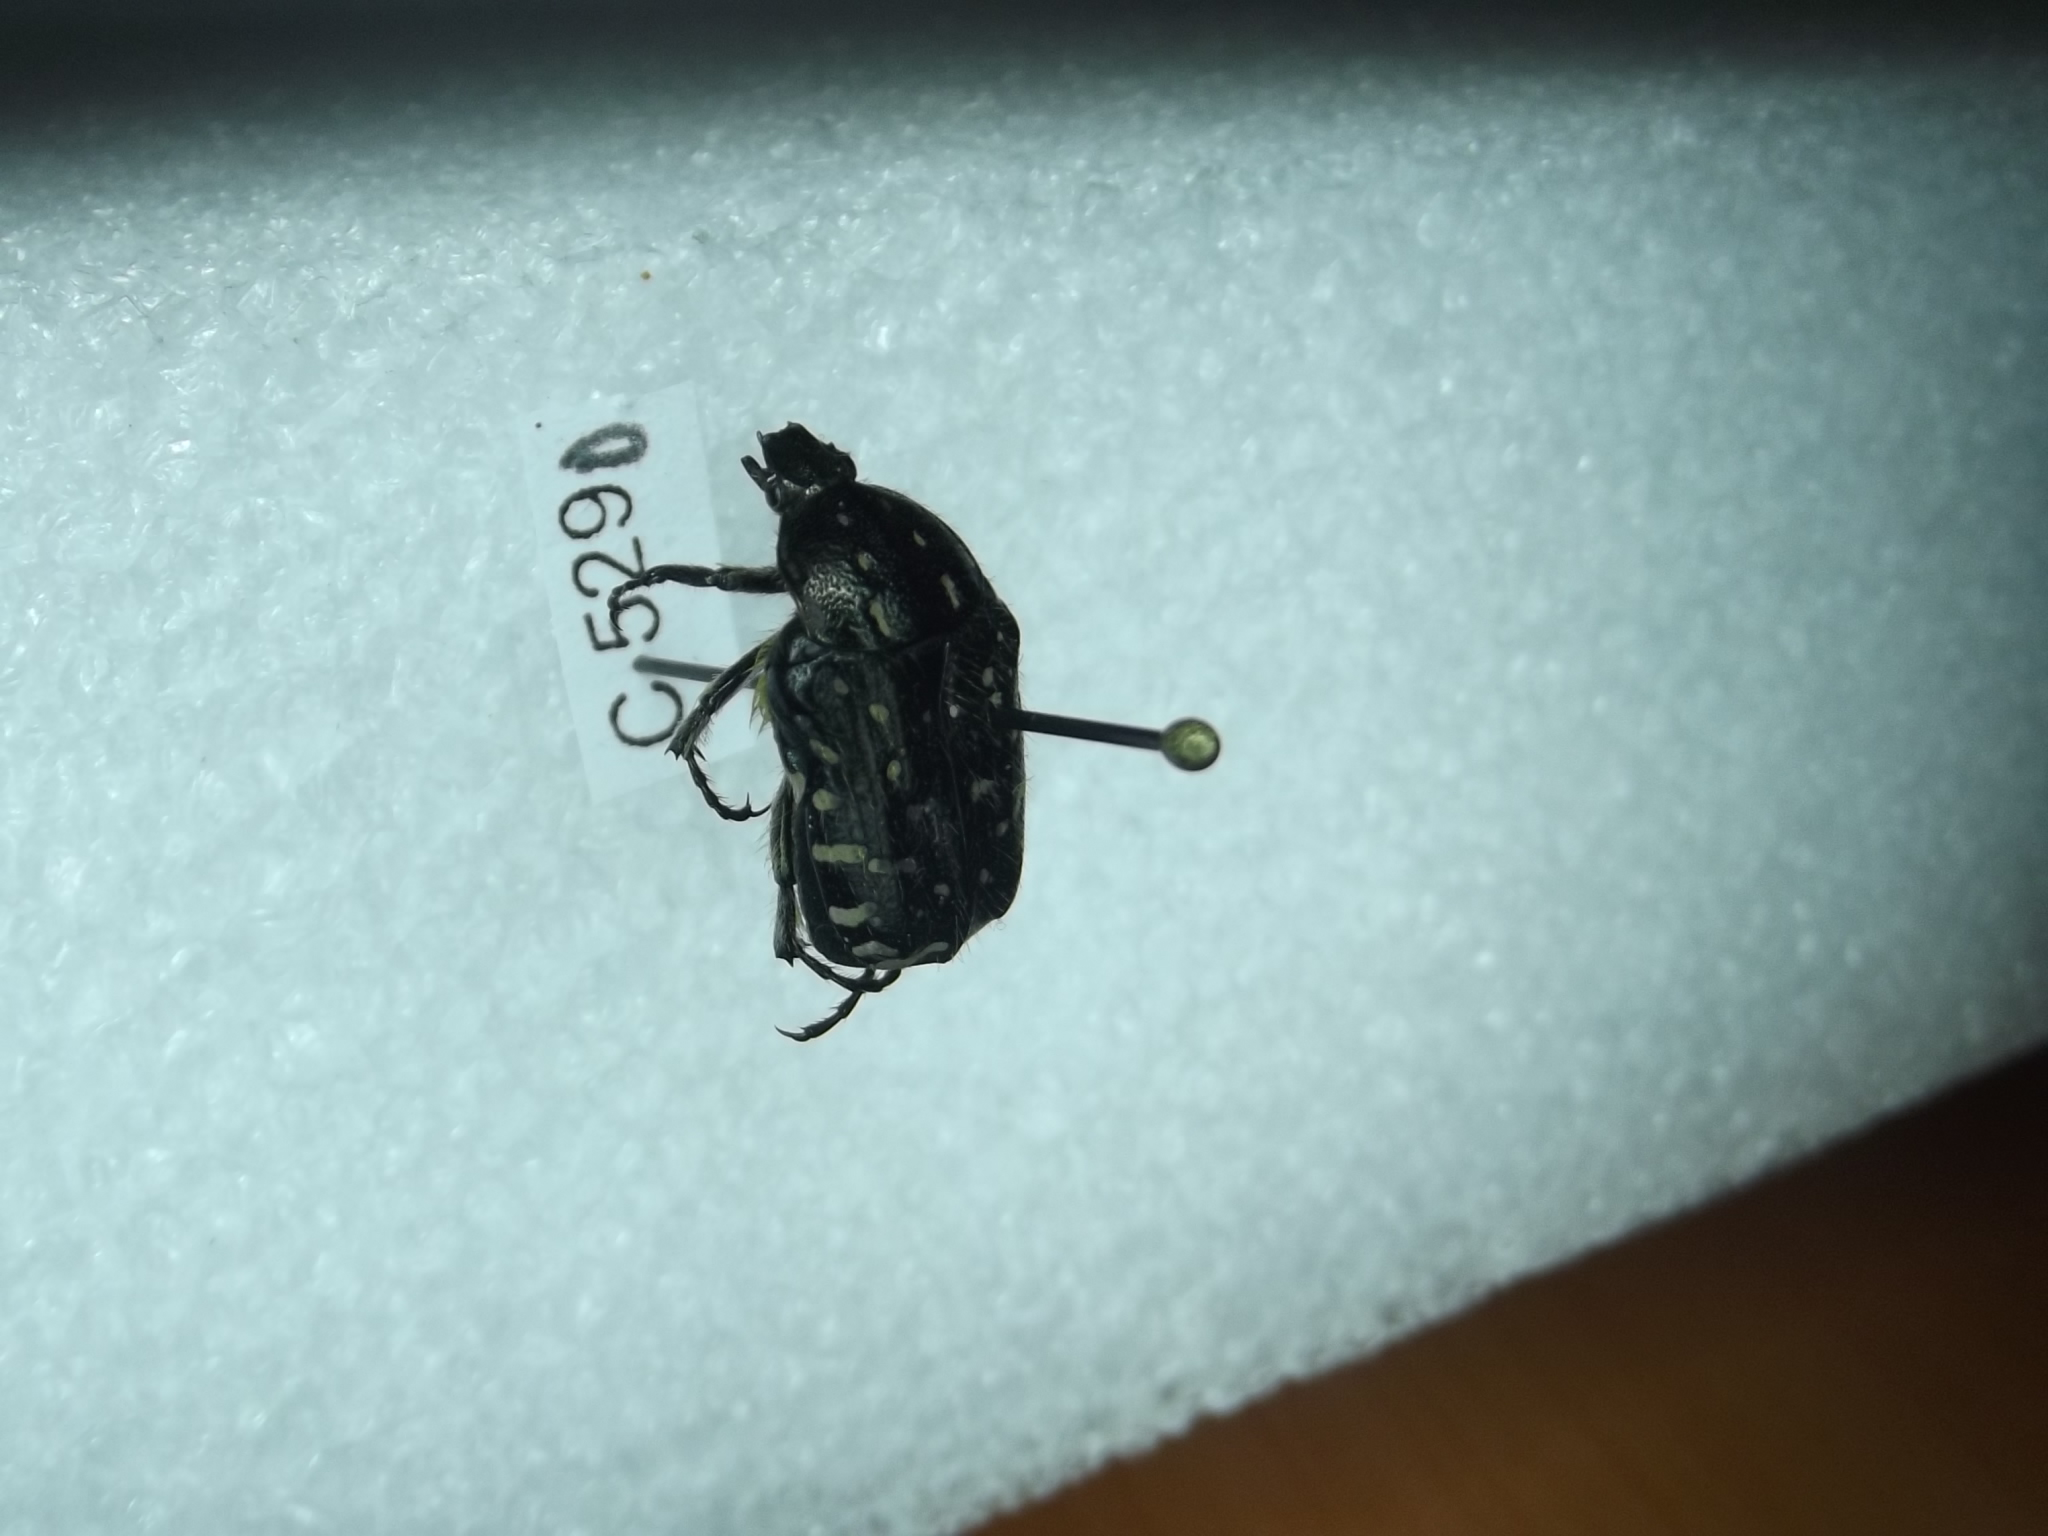Oxythyrea_funesta: (600, 407, 1039, 1065)
